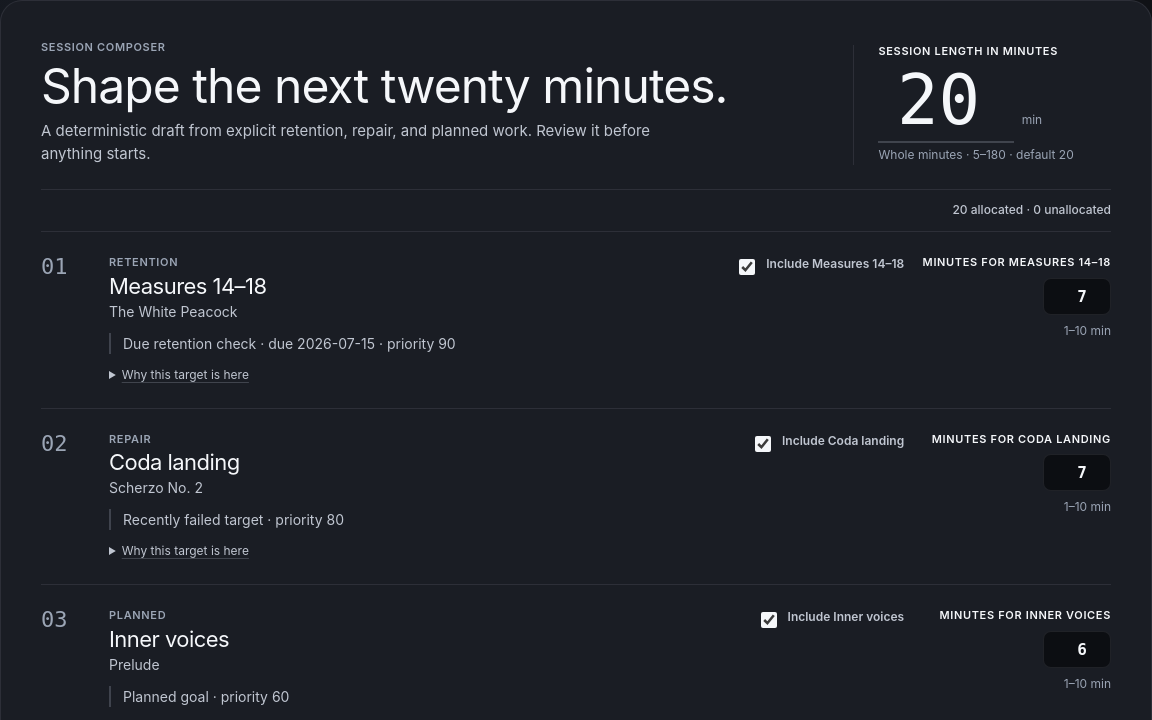
Test: SessionComposer › recomposes deterministically when the user chooses the five-minute minimum
Replace the text in the number field labelled "Session length in minutes" with "5" at x=946, y=101, box [878,59,1014,143]
(page scrolled)
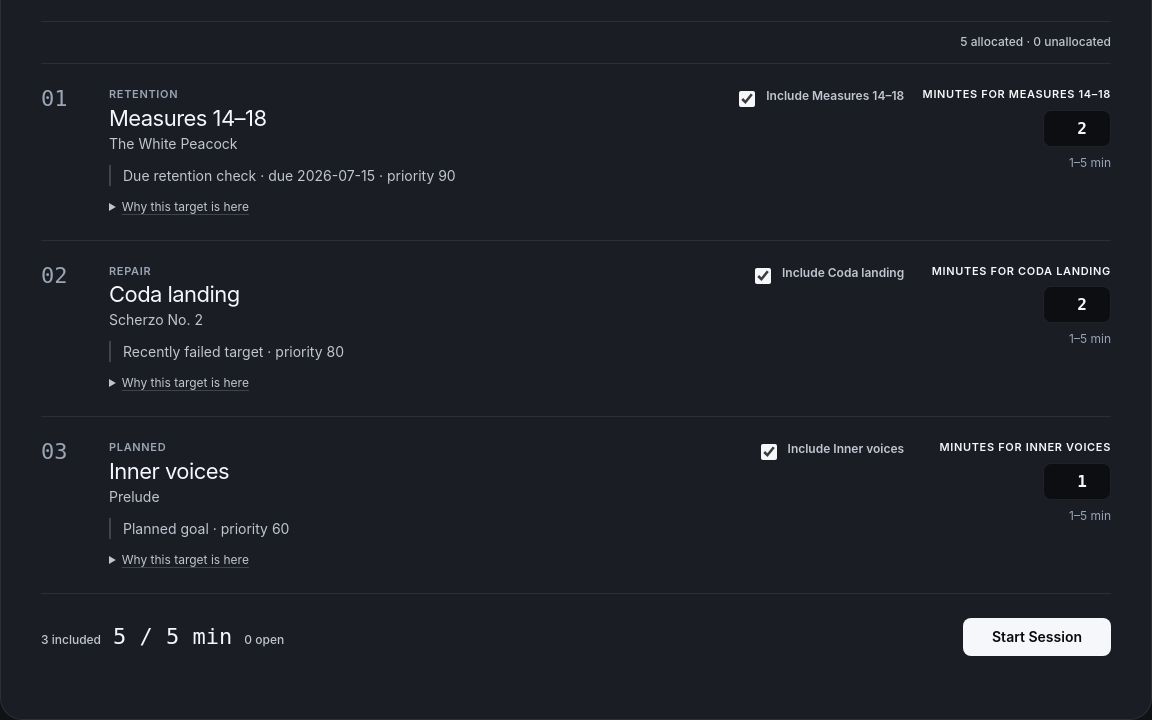
Expected: the number field labelled "Minutes for Measures 14–18" holds "2", [1043,110,1111,147]
Expected: the number field labelled "Minutes for Coda landing" holds "2", [1043,286,1111,324]
Expected: the number field labelled "Minutes for Inner voices" holds "1", [1043,463,1111,500]
